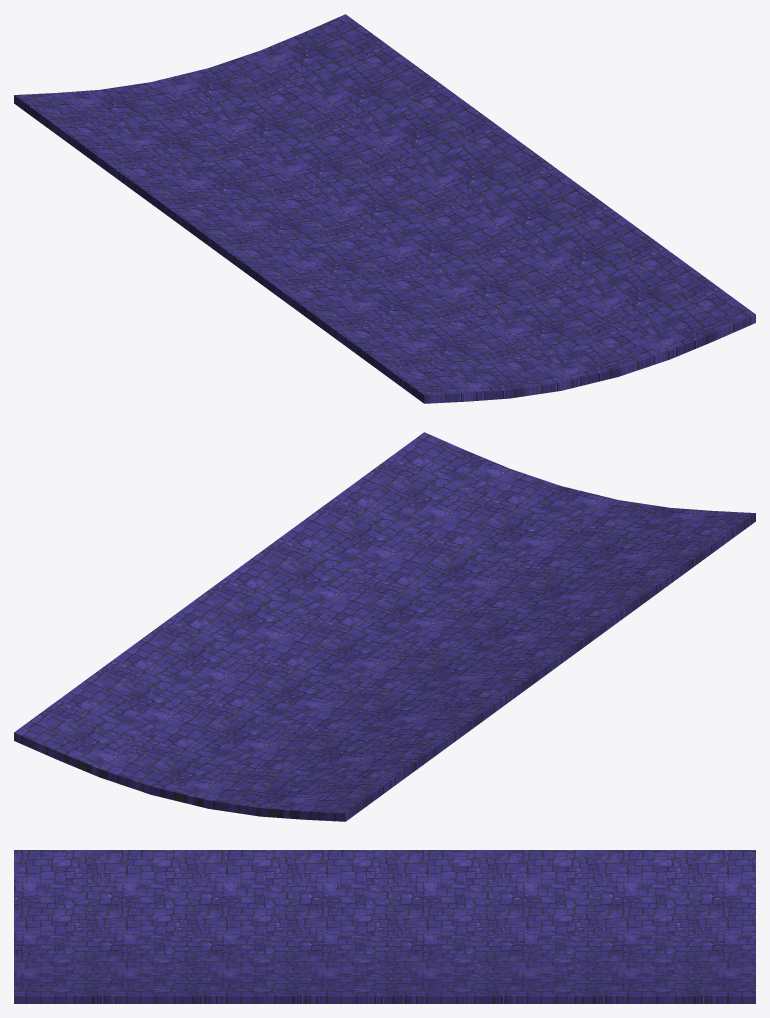
Rendered from G01_Straight.obj.
3 views of the same model, one above another, from view 1: azimuth 30°, elevation 25°; view 2: azimuth 150°, elevation 25°; view 3: azimuth 270°, elevation 25° (orthographic). The views are drawn at different scales.
Visible parts, largest first — view 1: G01_Straight; view 2: G01_Straight; view 3: G01_Straight.
Part boxes in pixels (x1,y1,x2,y2): G01_Straight: (14,14,755,403); G01_Straight: (14,432,755,821); G01_Straight: (14,850,755,1003).
Bounding box in the file's own units: 28 × 2.33 × 60.
